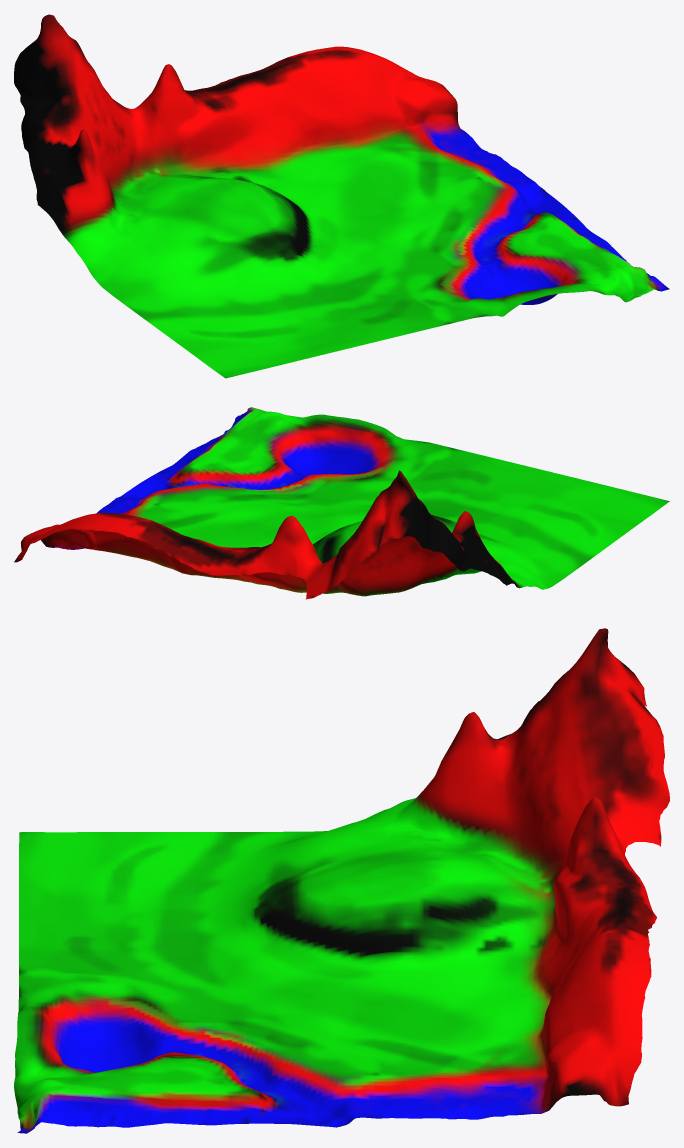
Rendered from landscape4_grass-colision.glb.
3 renders of one model, top to bottom at view 1: azimuth 30°, elevation 25°; view 2: azimuth 150°, elevation 25°; view 3: azimuth 270°, elevation 25°, orthographic. The views are drawn at different scales.
Visible parts, largest first — view 1: landscape4-forgrass-colonly; view 2: landscape4-forgrass-colonly; view 3: landscape4-forgrass-colonly.
Part boxes in pixels (box(x1,y1,x2,y2)): landscape4-forgrass-colonly: box(14, 14, 669, 378); landscape4-forgrass-colonly: box(14, 407, 669, 599); landscape4-forgrass-colonly: box(14, 628, 669, 1133).
Bounding box in the file's own units: 798 × 357 × 776.
Materials: 1 (1 with a texture image).
